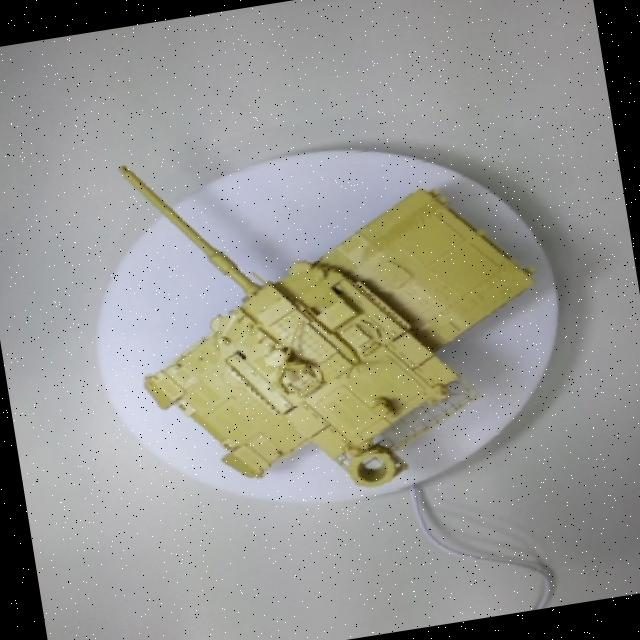korea tank: (74, 70, 584, 540)
